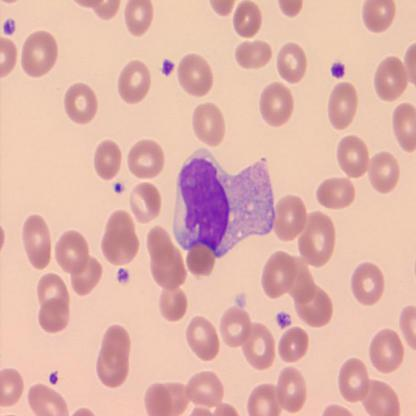Monocyte: (170, 145, 277, 260)
